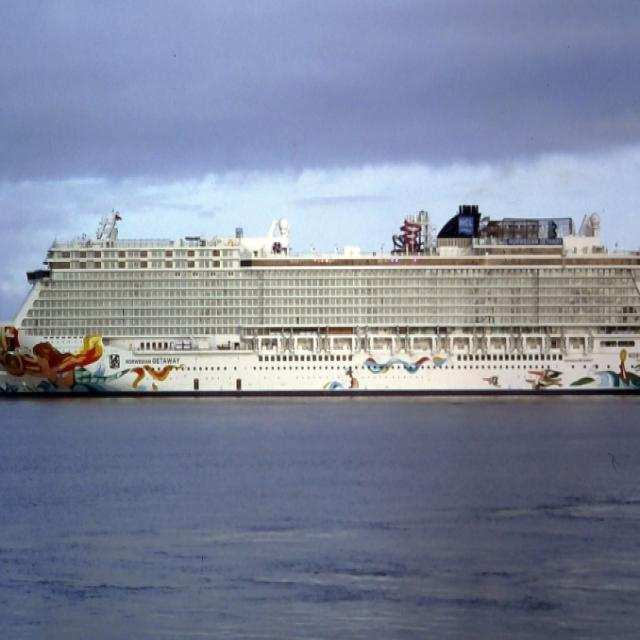cruises: (1, 201, 640, 405)
